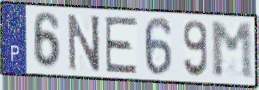6: (32, 11, 63, 72), (143, 16, 173, 78)
9: (182, 19, 209, 79)
E: (103, 15, 139, 75)
M: (209, 22, 256, 82)
N: (66, 12, 103, 72)
